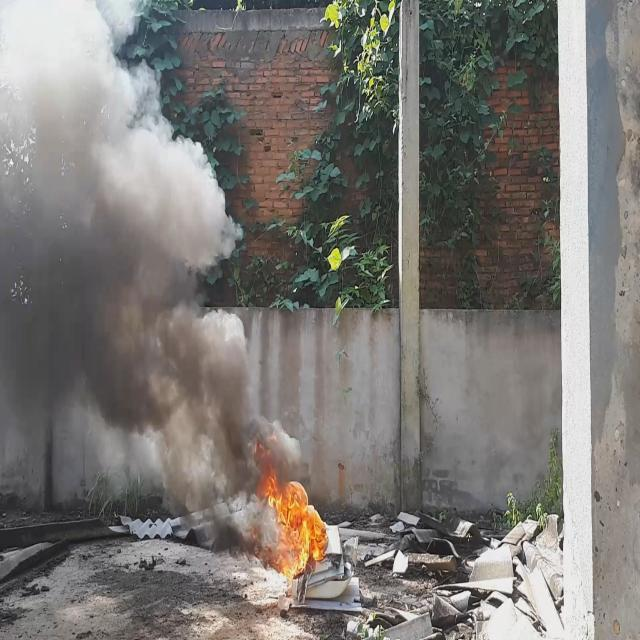Fire: (254, 442, 331, 590)
Smoke: (0, 0, 303, 553)
